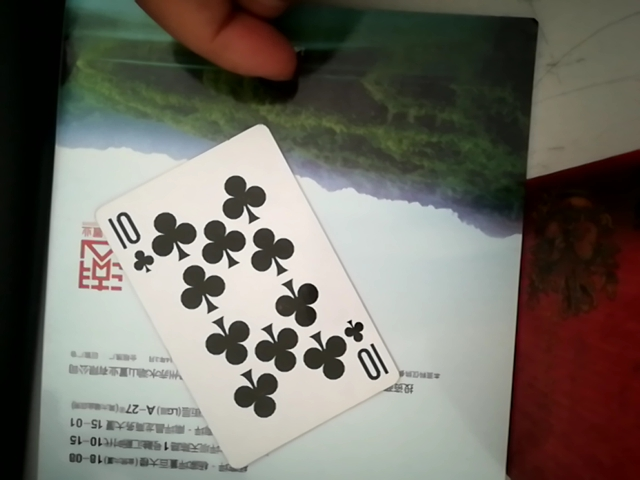mh 10: (86, 112, 396, 470)
